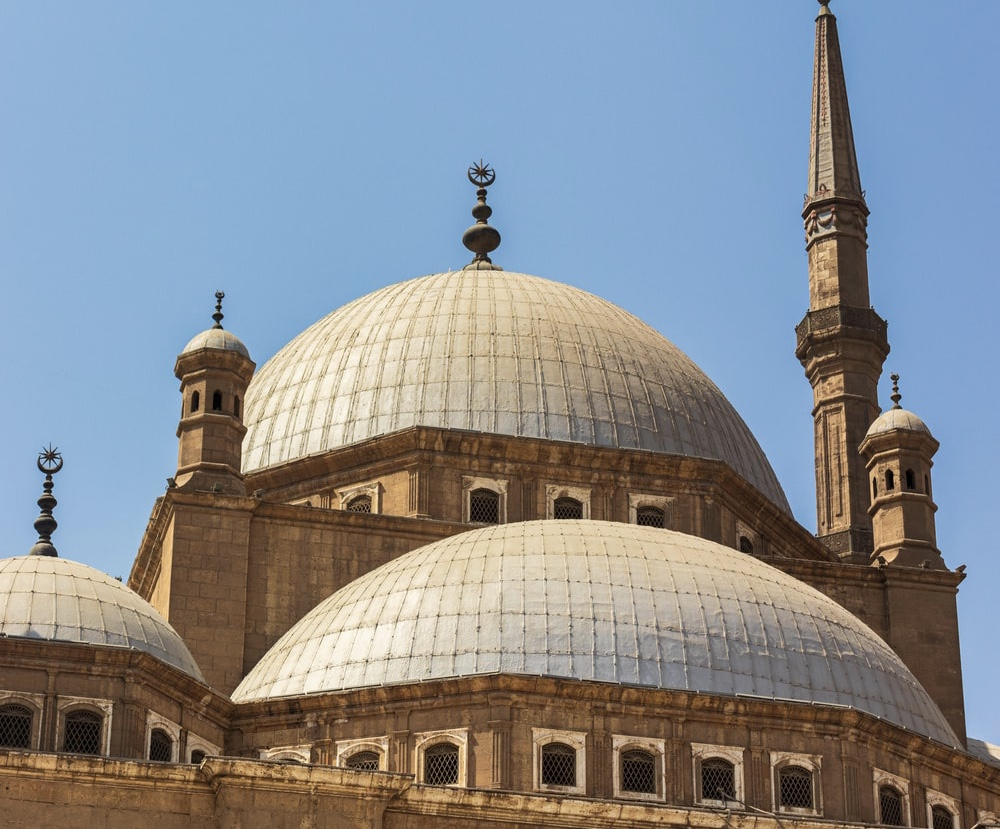Mosque: (12, 24, 972, 806)
